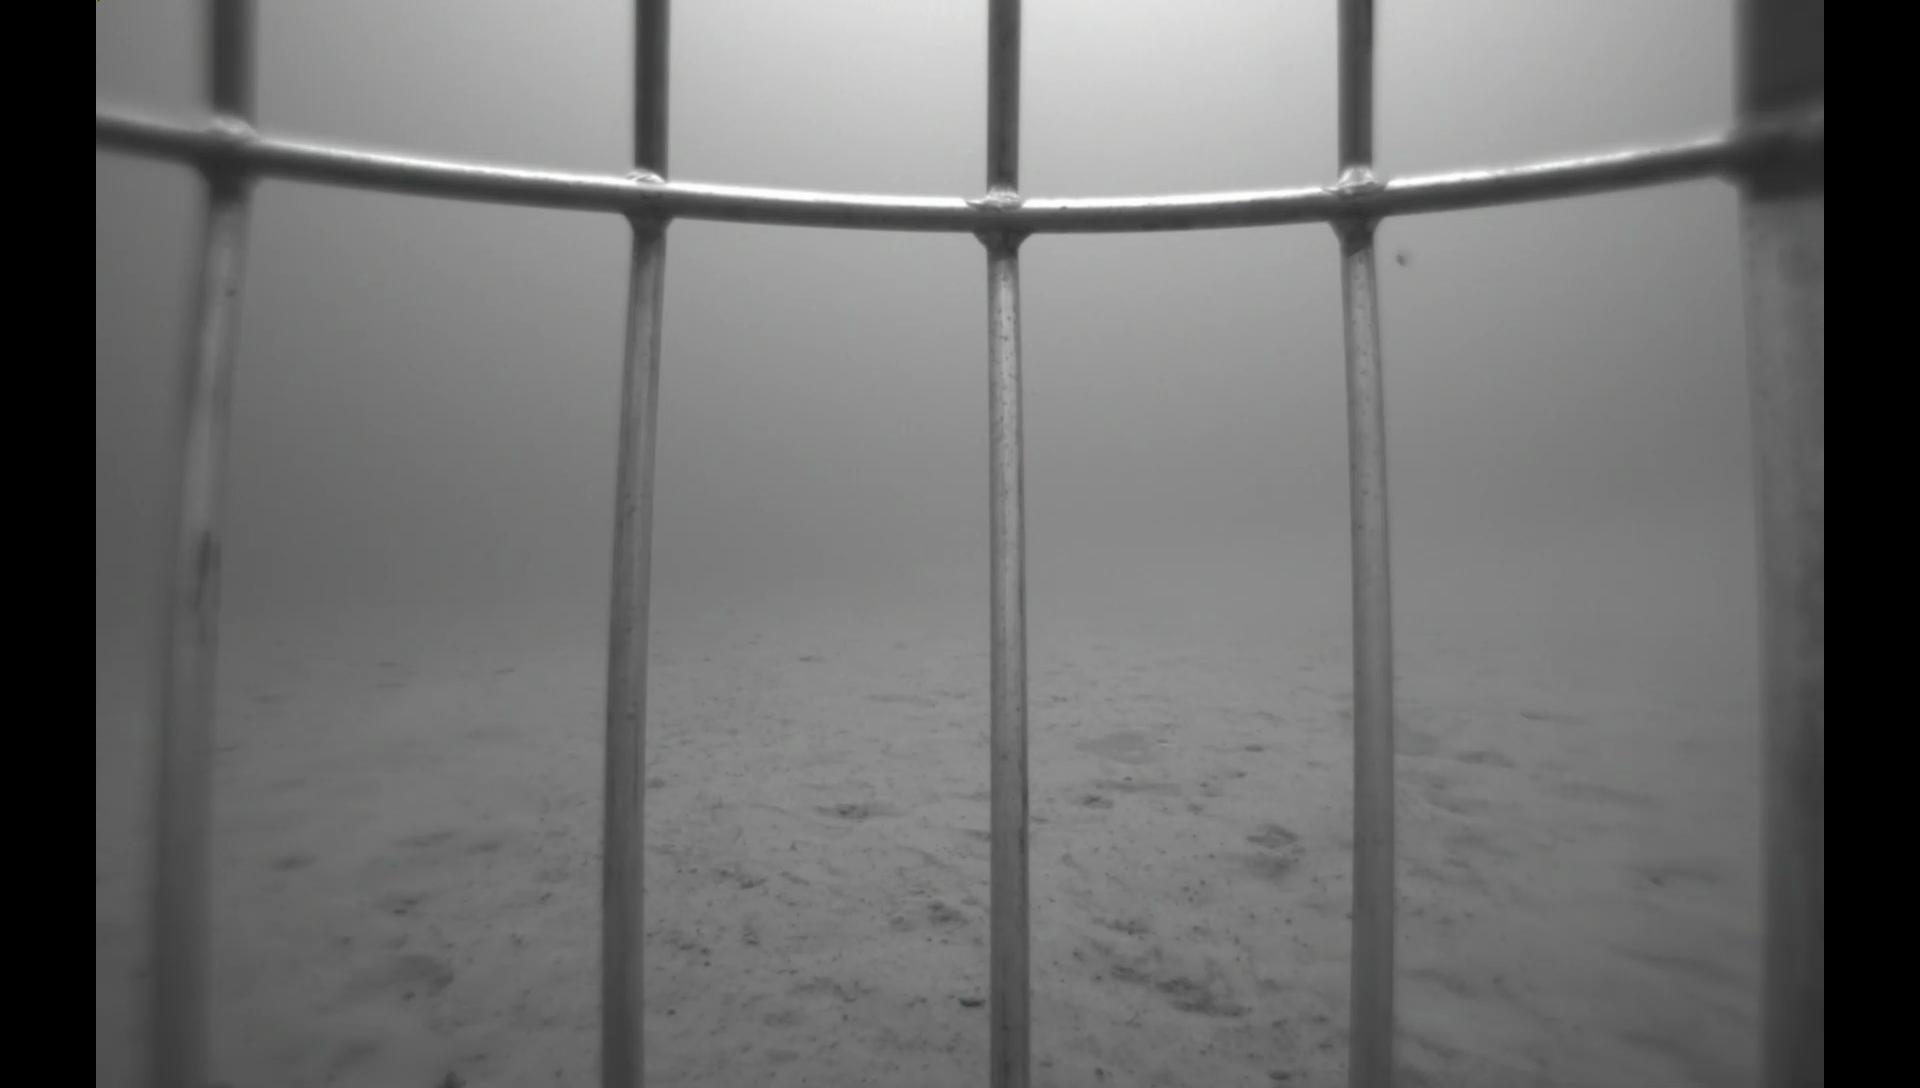PRISTIPOMOIDES-170151800: (1030, 708, 1187, 779), (1317, 695, 1462, 768)
